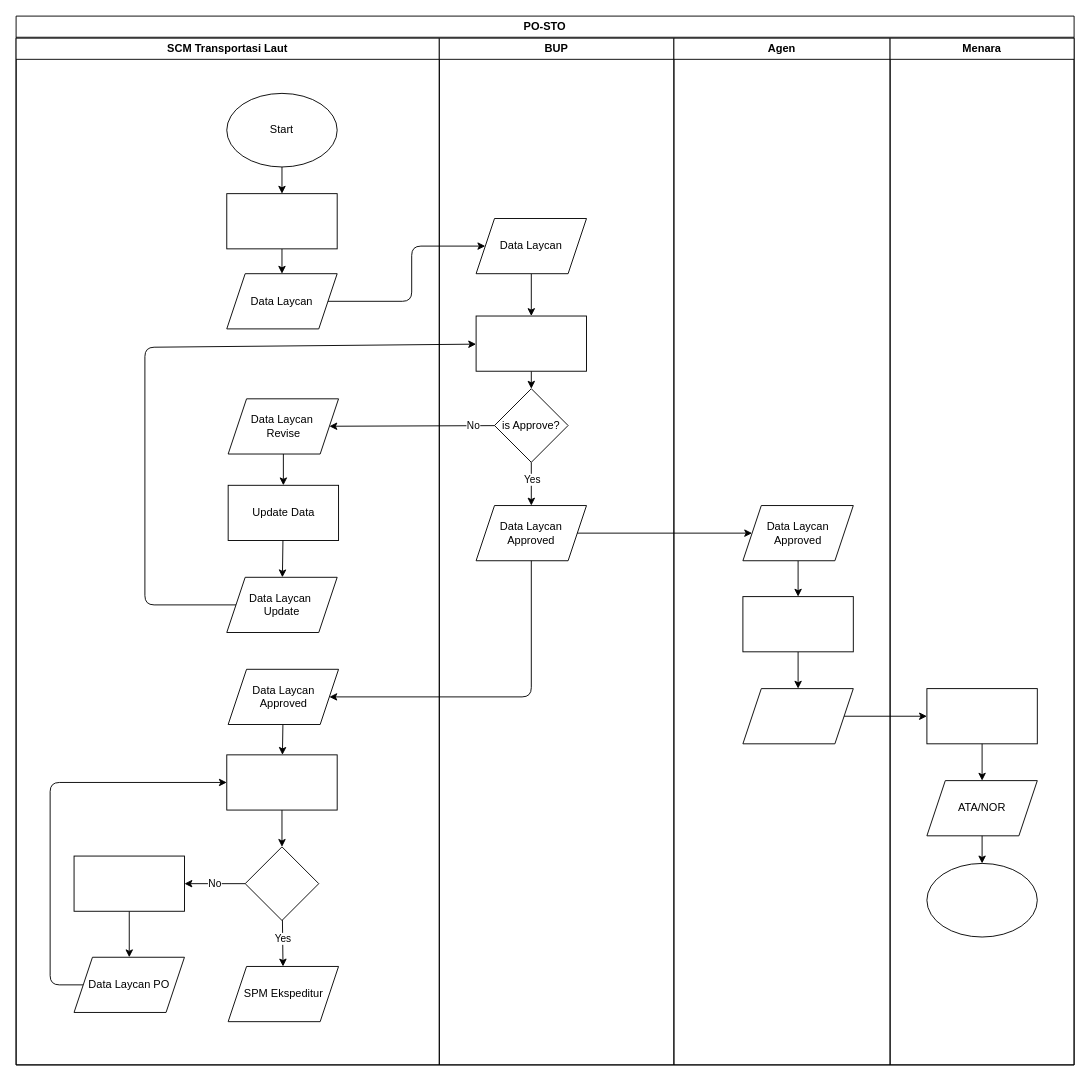
Image size: 1090x1081. Some labels were removed from this diagram. The box of each missing label's shape, as (x1, y1, x2, y2) in pixels:
Approve Laycan: (475, 315, 586, 371)
Assign PO: (73, 855, 184, 911)
Create Laycan: (226, 193, 337, 249)
End: (926, 862, 1037, 937)
Entry Ekspeditur: (226, 754, 337, 810)
Is there a PO?: (244, 846, 319, 920)
PKKB: (742, 688, 853, 744)
Update ATA/NOR: (926, 688, 1037, 744)
Update PKKB: (742, 596, 853, 652)
